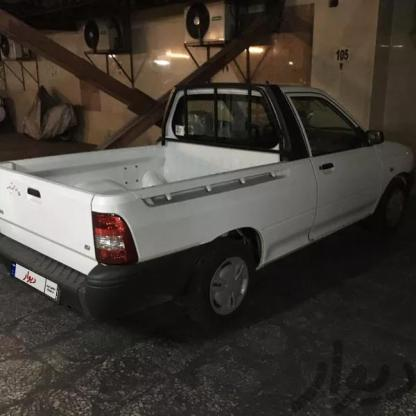Car: (0, 54, 416, 334)
